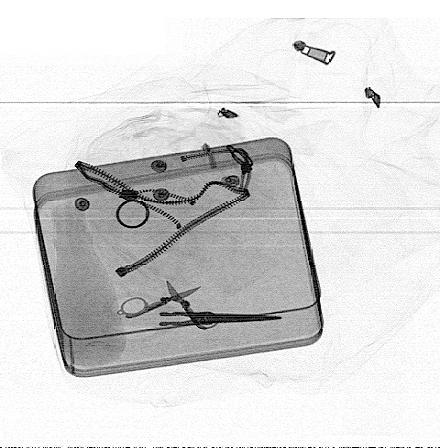Scissors: (99, 289, 285, 350), (115, 278, 220, 331)
